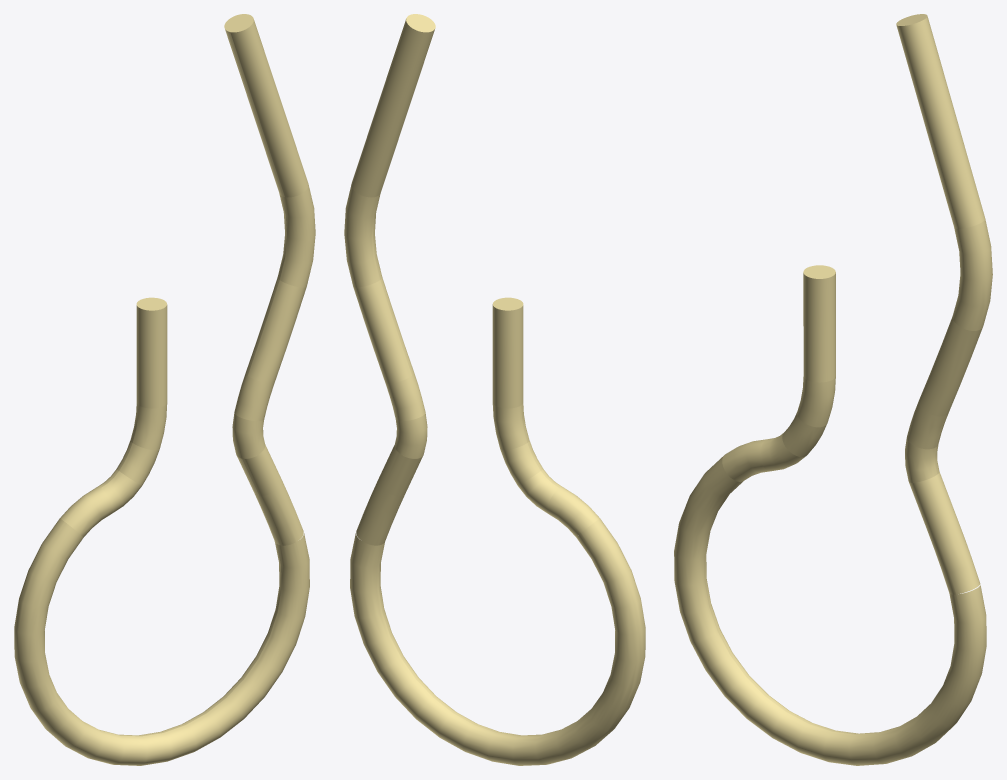
File: sfe-flexypin_0.4mm.glb
3 views of the same model, side by side, from view 1: azimuth 30°, elevation 25°; view 2: azimuth 150°, elevation 25°; view 3: azimuth 330°, elevation 25° (orthographic). The views are drawn at different scales.
Visible parts, largest first — view 1: 0.9166666666666666_0.75_0.4166666666666667_0.9; view 2: 0.9166666666666666_0.75_0.4166666666666667_0.9; view 3: 0.9166666666666666_0.75_0.4166666666666667_0.9.
Boxes of the visible parts, x1,y1,x2,y2 form: 0.9166666666666666_0.75_0.4166666666666667_0.9: (14, 14, 315, 765); 0.9166666666666666_0.75_0.4166666666666667_0.9: (344, 14, 645, 765); 0.9166666666666666_0.75_0.4166666666666667_0.9: (674, 14, 992, 765).
Size of the model in its own units: 0.4472 by 1.04 by 0.04.
